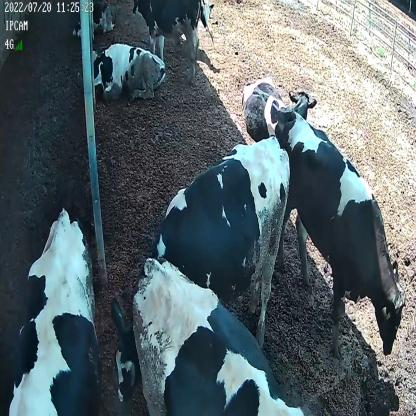cow: (111, 139, 294, 400), (270, 104, 408, 362), (130, 0, 202, 81), (89, 41, 167, 107), (238, 74, 317, 138)
